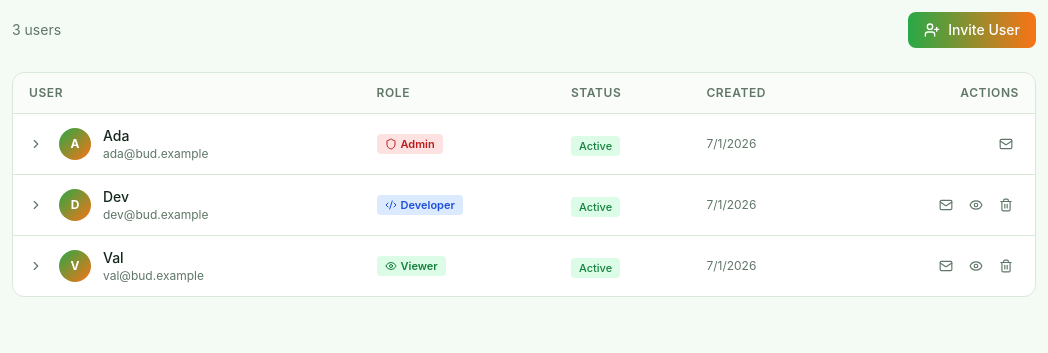
Test: groups under each user › shows every group of an opened user without permissions and hides them again
Expected: the text "Dev" is shown, x1=103 y1=188 x2=129 y2=205
Click the button named "Show groups of Dev" at (36, 205), box x1=25 y1=194 x2=47 y2=216
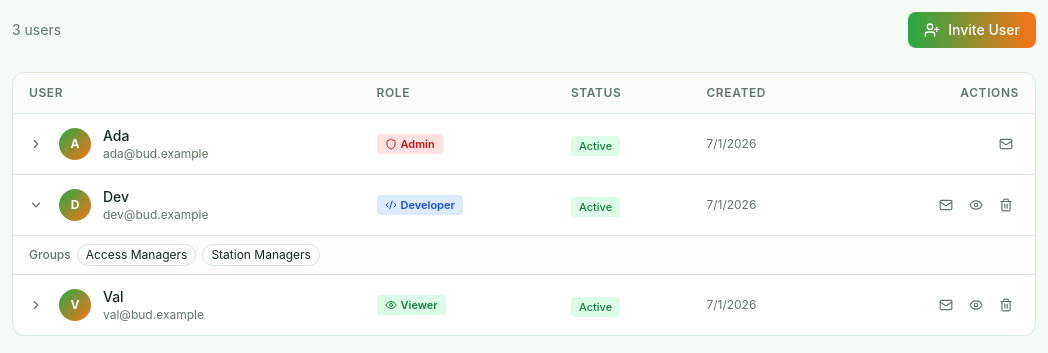
Now the text "Access Managers" is shown, box x1=77 y1=244 x2=196 y2=266
Now the text "Station Managers" is shown, box x1=202 y1=244 x2=320 y2=266
Now the button named "Hide groups of Dev" is expanded
Click the button named "Hide groups of Dev" at (36, 205), box x1=25 y1=194 x2=47 y2=216
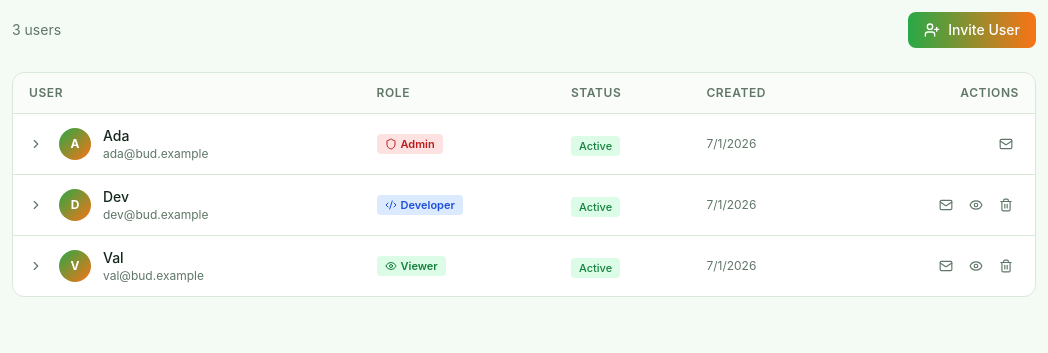
Now the text "Access Managers" is gone
